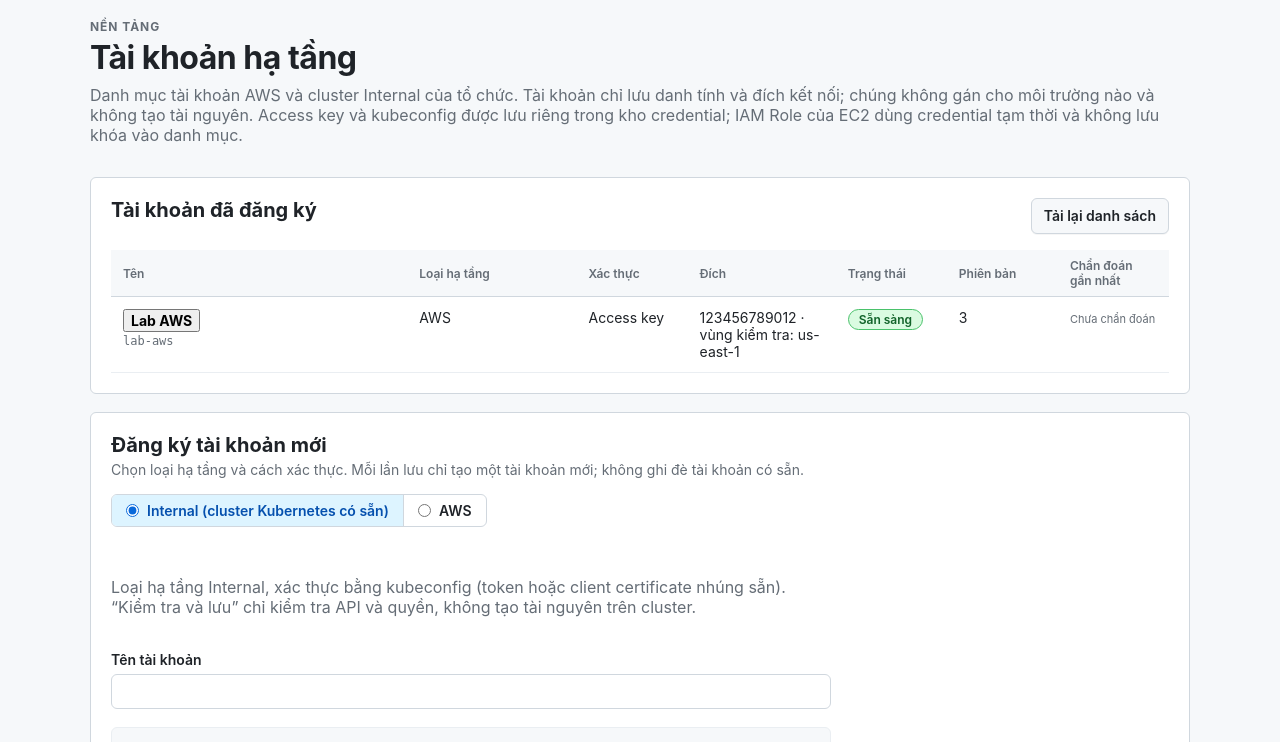
Test: V01 infrastructure accounts page › replaces an AWS credential: keys concealed, cleared on send and on success, never shown
The width and height of the screenshot is (1280, 742).
Click the button with aria-label "Xem Lab AWS". click: coordinates (162, 320)
box: [123, 309, 200, 332]
(page scrolled)
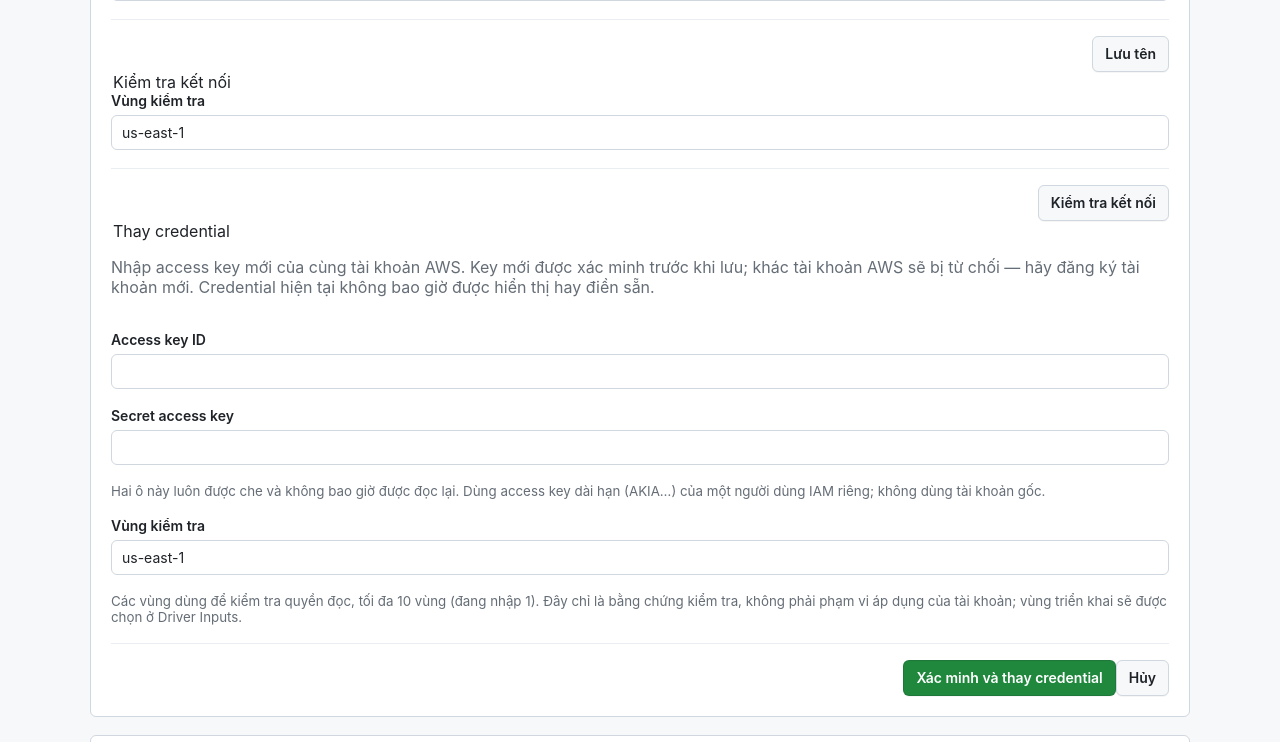
Type "AKIAFIXTUREKEY000001" into the password field labelled "Access key ID". click: coordinates (640, 372)
box: [111, 354, 1169, 389]
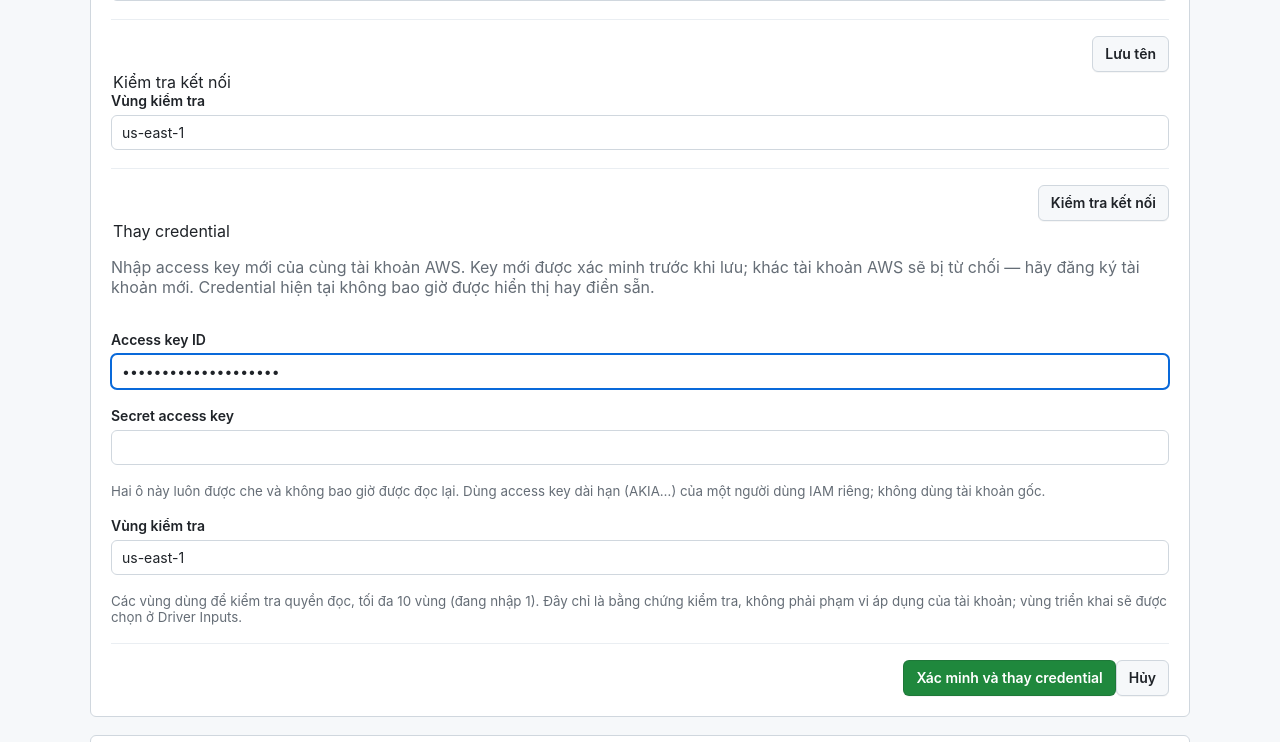
Type "fixture/secret/value/0000000000000000000" into the password field labelled "Secret access key". click: coordinates (640, 448)
box: [111, 430, 1169, 465]
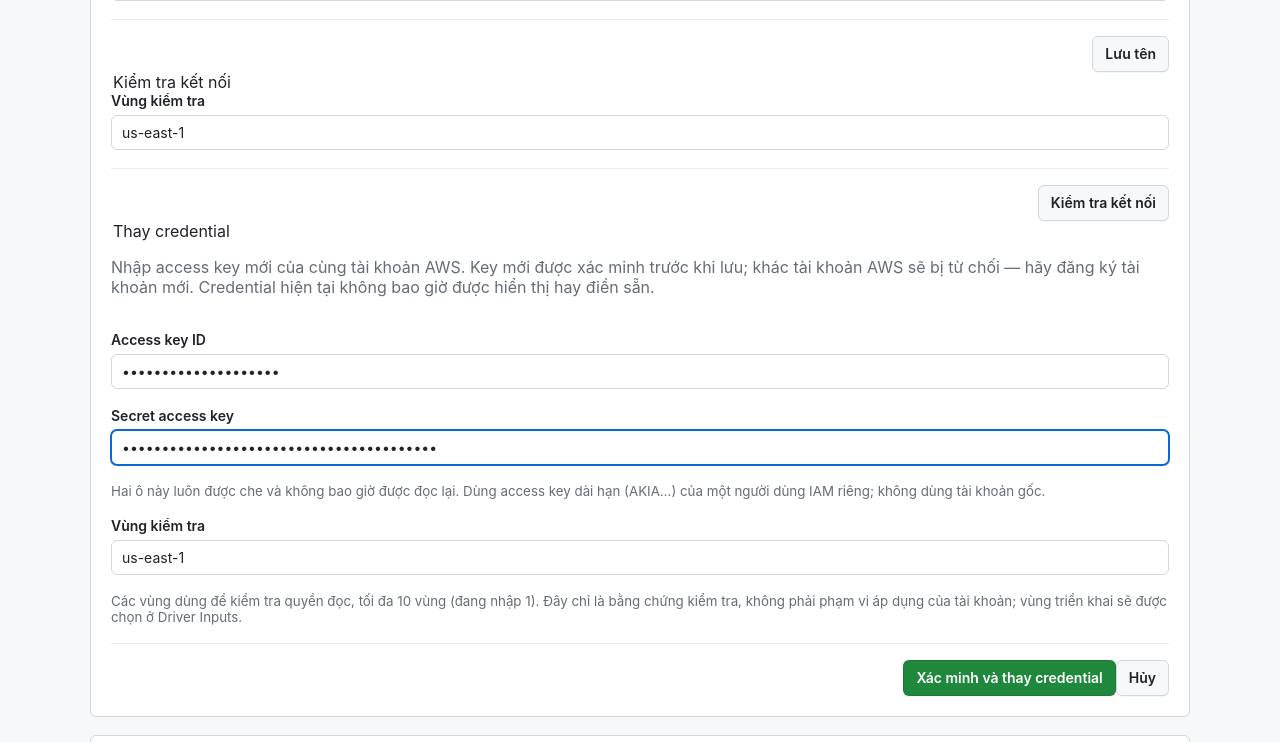
Click the button "Xác minh và thay credential". click: coordinates (1010, 678)
box: [904, 660, 1116, 696]
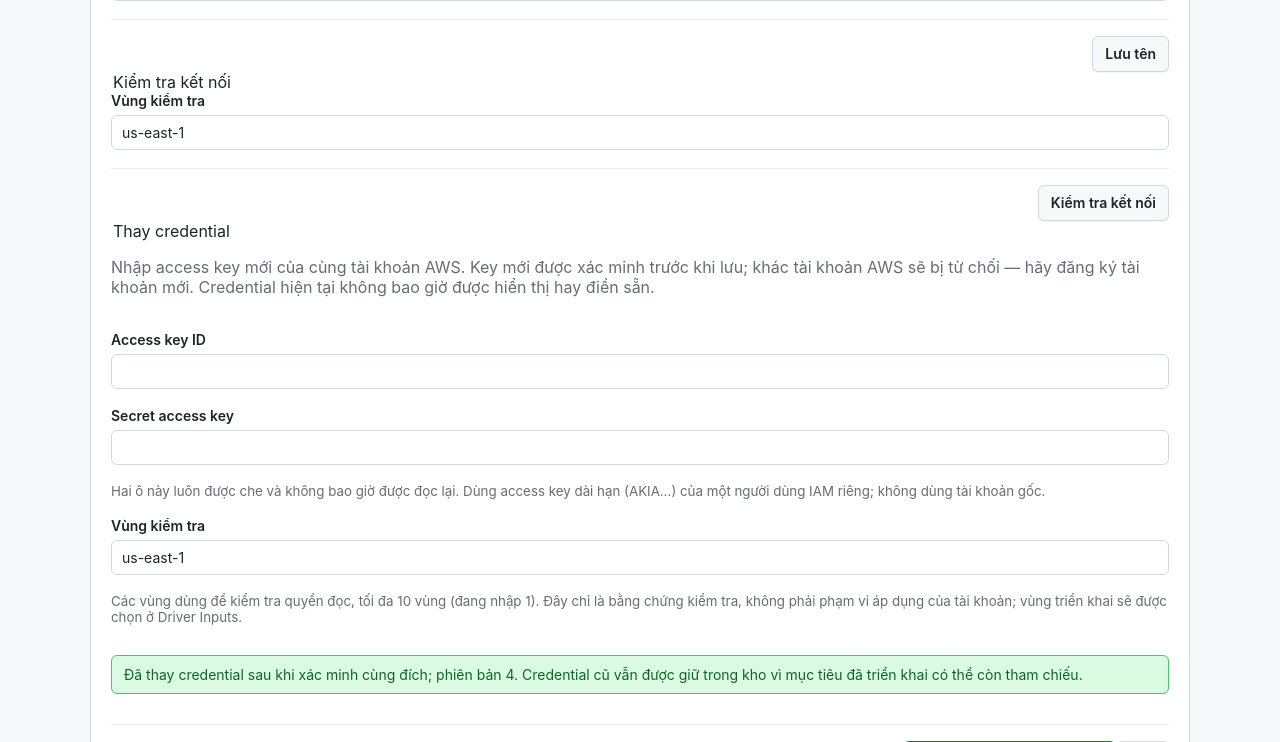
Check: the text "Đã thay credential" is shown, box [124, 666, 1083, 683]
Check: the password field labelled "Access key ID" is empty, box [111, 354, 1169, 389]
